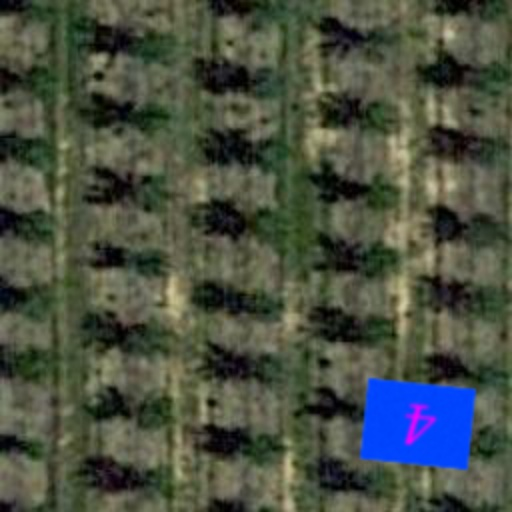rectangle: (358, 364, 478, 484)
